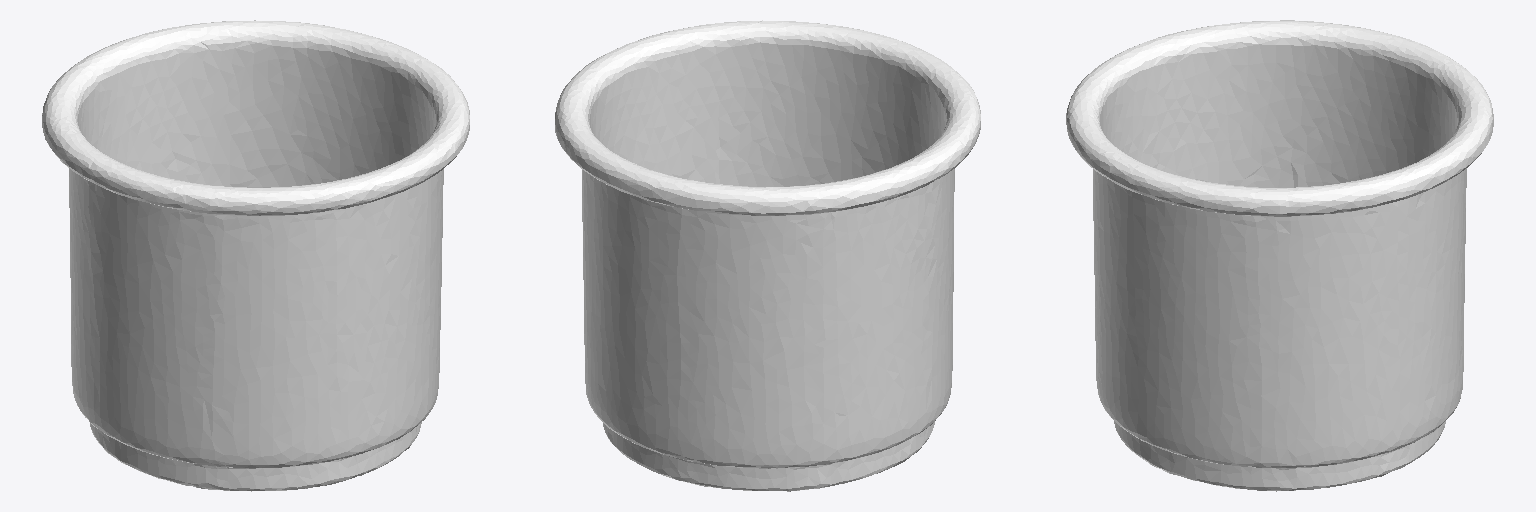
The robot description file, URDF, robot "056_tennis_ball":
<robot name="056_tennis_ball">
	<link name="_name">
		<visual>
			<origin xyz="-0.08233239762589123 0.4419242630466529 -0.32886620637001623" rpy="0 0 0" />
			<geometry>
				<mesh filename="056_tennis_ball/google_16k/textured.obj" scale="10 10 10" />
			</geometry>
			<material name="texture">
				<color rgba="1.0 1.0 1.0 1.0" />
			</material>
		</visual>
		<collision>
			<geometry>
				<mesh filename="056_tennis_ball/google_16k/textured_vhacd.obj" scale="10 10 10" />
			</geometry>
		<origin xyz="-0.08233239762589123 0.4419242630466529 -0.32886620637001623" rpy="0 0 0" /></collision>
		<inertial>
			<mass value="1.0" />
			<inertia ixx="1.0" ixy="0.0" ixz="0.0" iyy="1.0" iyz="0.0" izz="1.0" />
		</inertial>
	</link>
</robot>

--- Render facts (derived) ---
The picture shows the robot from 3 angles, left to right: view 1: azimuth 30°, elevation 25°; view 2: azimuth 150°, elevation 25°; view 3: azimuth 270°, elevation 25°; orthographic projection.
Model 056_tennis_ball with 1 links and 0 joints (none), rooted at _name, posed all joints at 0.
Visible links, largest first — view 1: _name; view 2: _name; view 3: _name.
Link boxes in pixels (x1,y1,x2,y2): _name: [42, 20, 469, 491]; _name: [555, 20, 980, 491]; _name: [1066, 20, 1493, 491].
Size in the robot's own frame: 0.915 by 0.9162 by 0.7506 metres.
1 mesh visuals loaded from 1 distinct referenced files (1 OBJ).